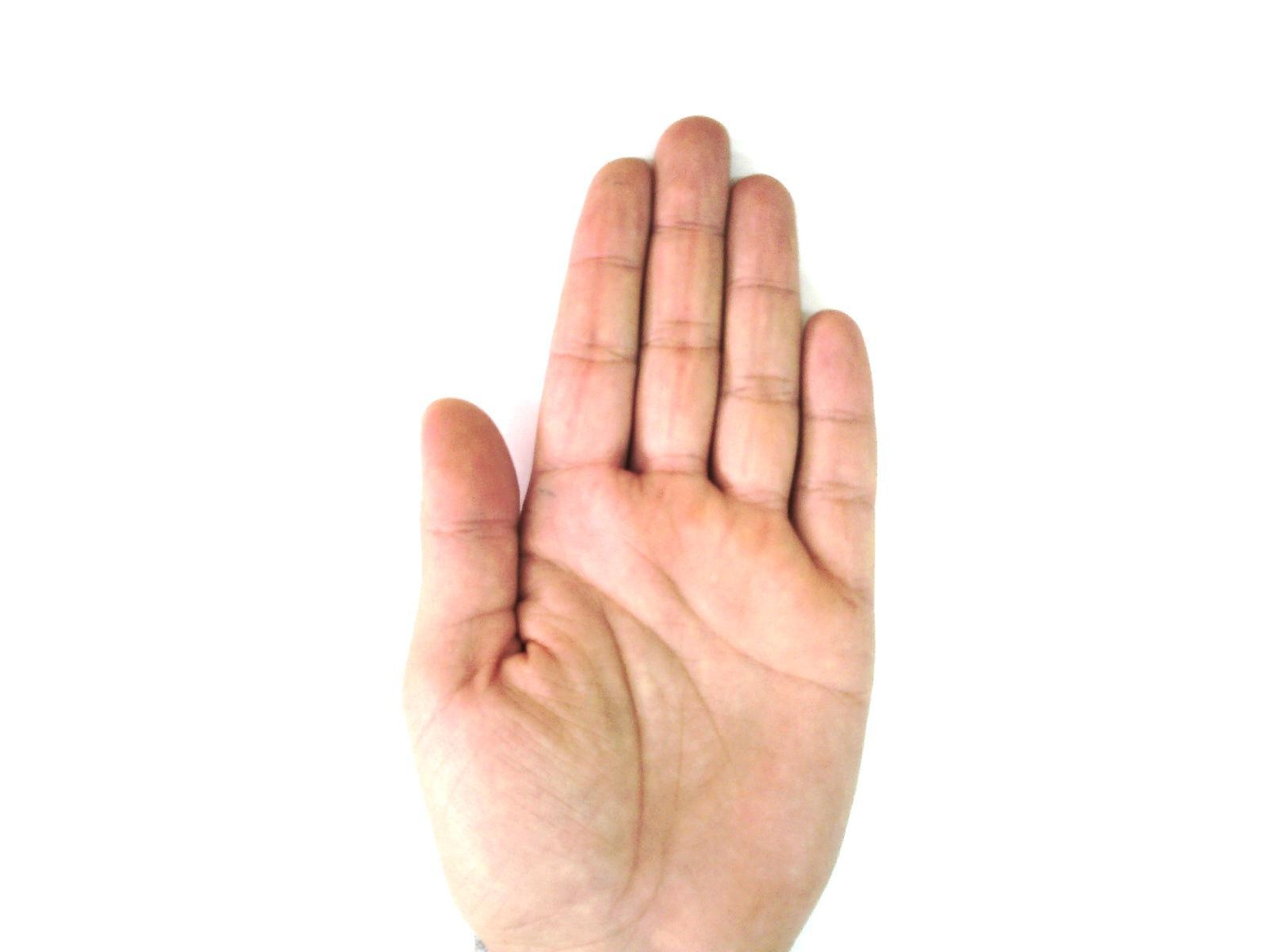open_palm: (401, 115, 882, 951)
